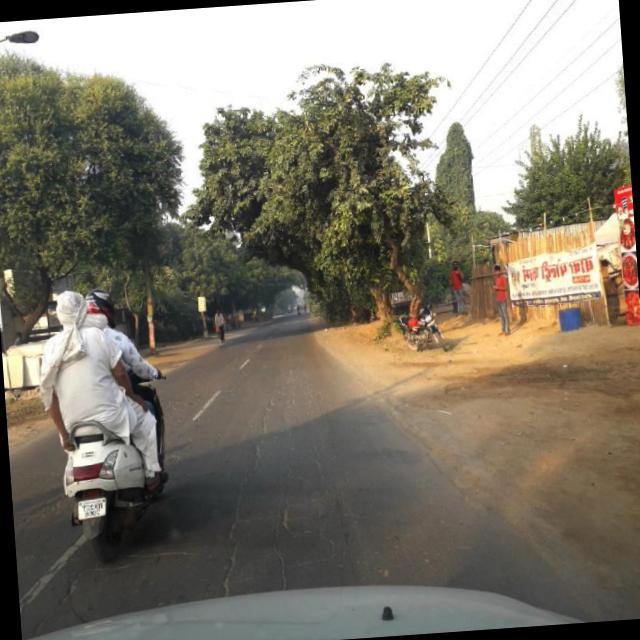pothole: (202, 360, 337, 594)
